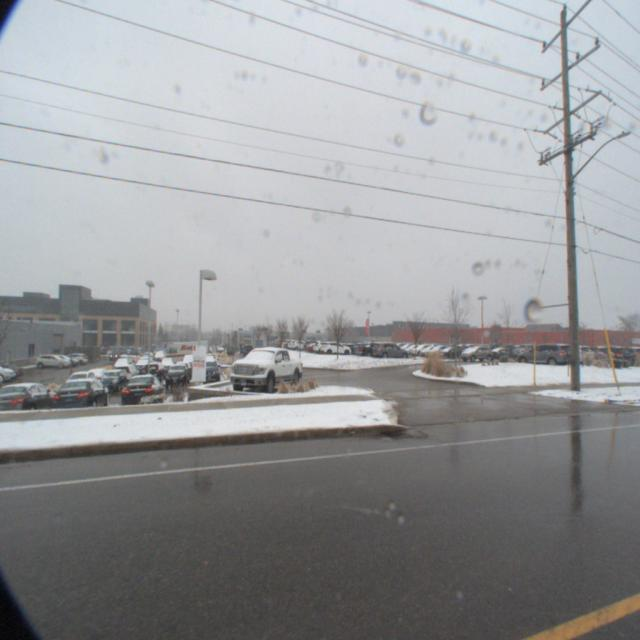Car: (37, 372, 107, 431), (519, 339, 579, 367), (23, 355, 65, 373), (369, 341, 408, 358), (459, 344, 495, 362), (317, 340, 351, 356)
Truck: (220, 344, 304, 402), (158, 341, 208, 367)
